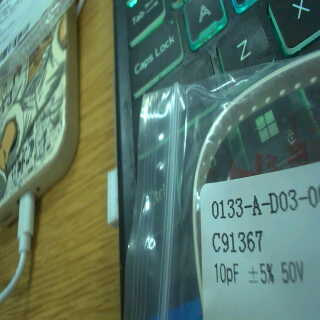10pF: (209, 256, 244, 291)
